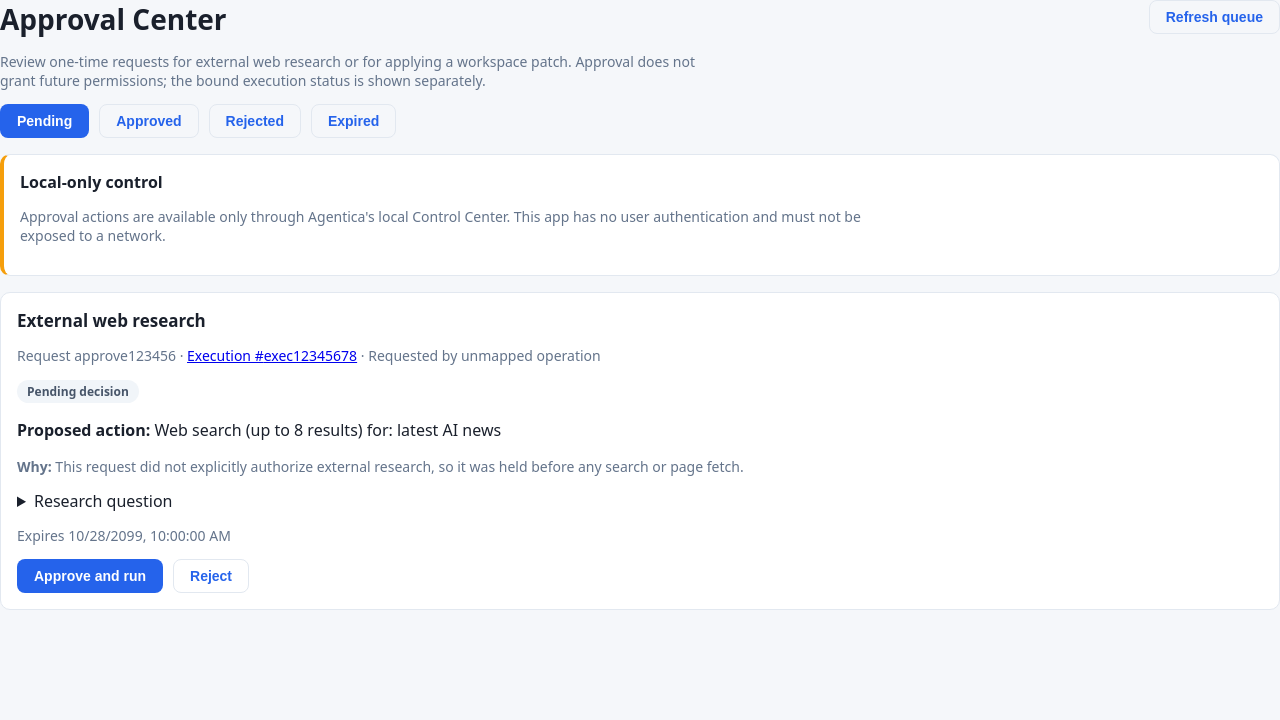
it: Approval Center › does not duplicate requests while a decision is in progress
Click the button "Approve and run".
click(90, 576)  # box [17,559,163,593]
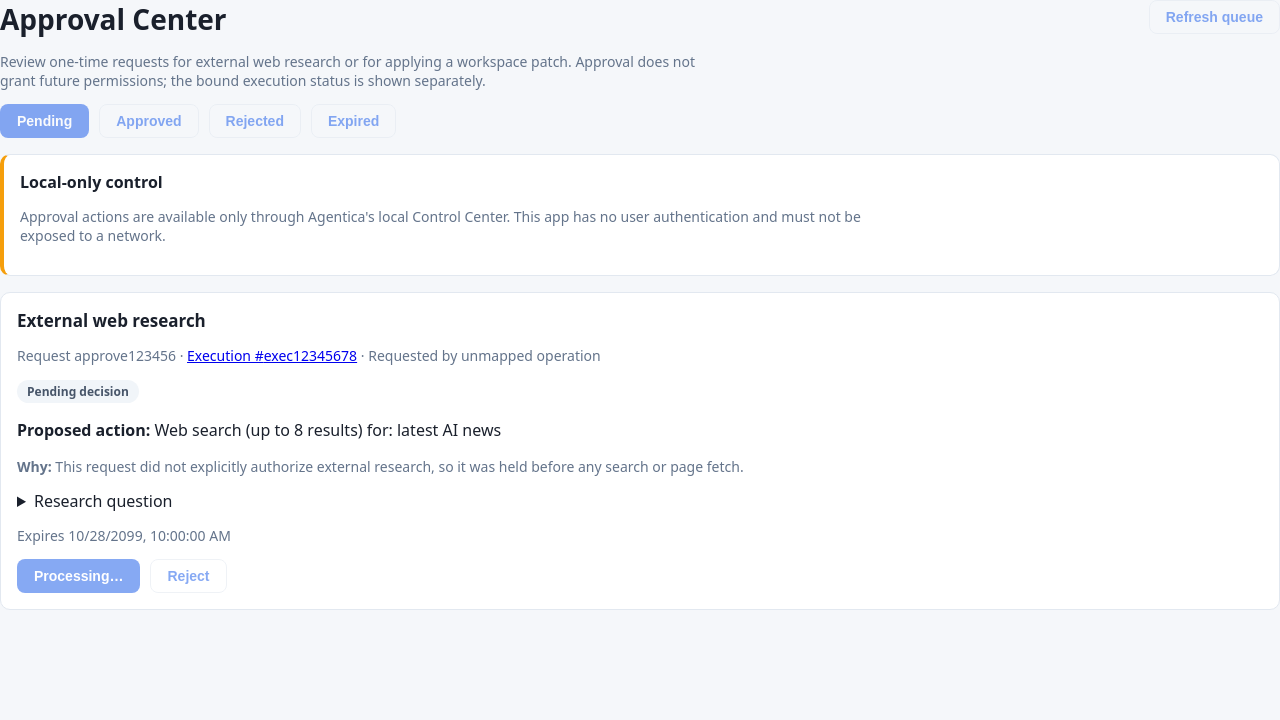
Expected: the button "Processing…" is disabled, [17,559,140,593]
Click the button "Reject".
click(188, 576)  # box [150,559,226,593]
(page scrolled)
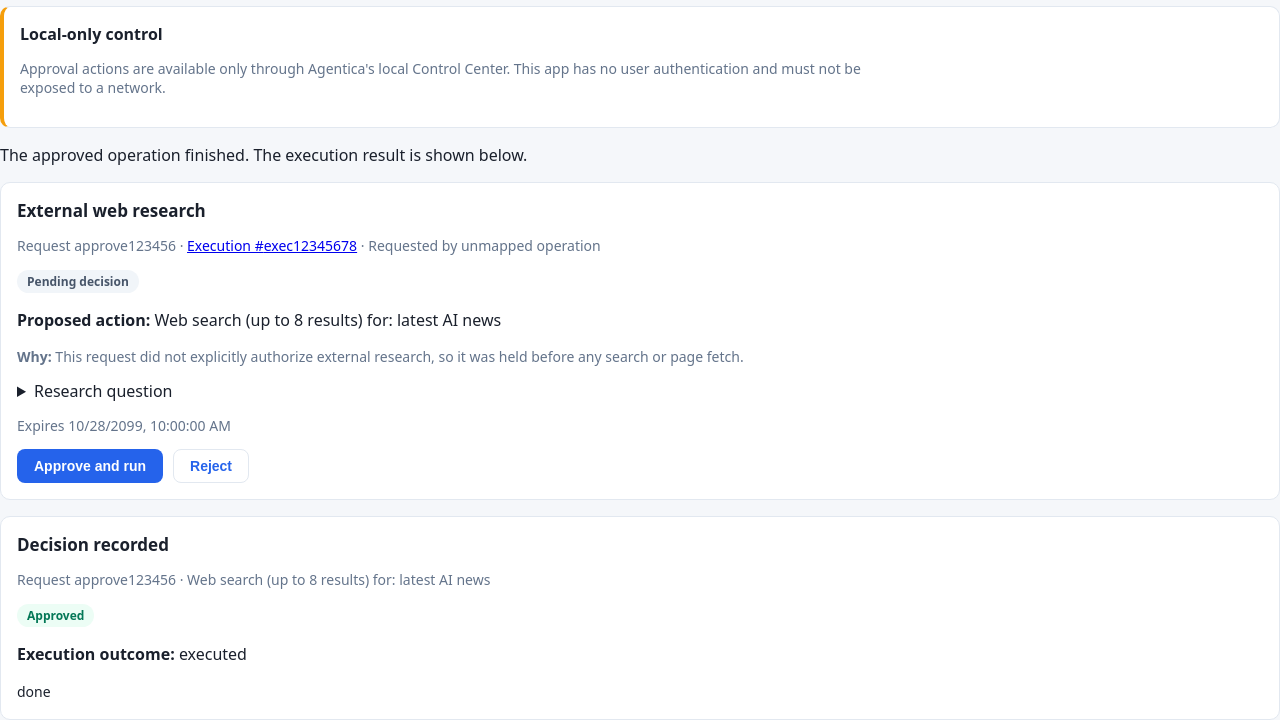
Expected: the text "done" is shown, [17,682,51,701]
